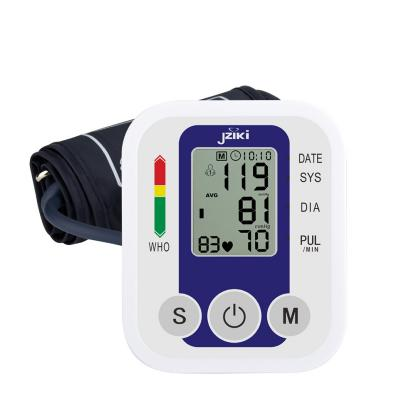Displays: (195, 150, 274, 256)
